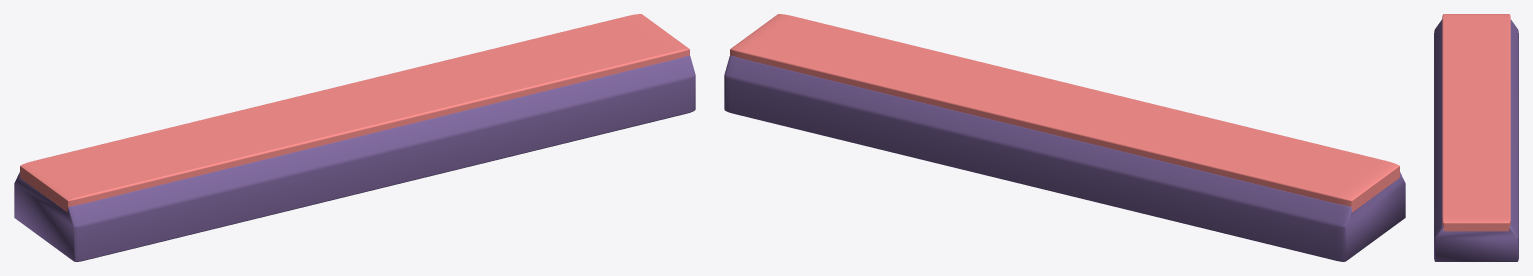
The picture shows the model from 3 angles, left to right: view 1: azimuth 30°, elevation 25°; view 2: azimuth 150°, elevation 25°; view 3: azimuth 270°, elevation 25°; orthographic projection. The views are drawn at different scales.
Parts seen in each view (by area): view 1: Cube.018, Plane.022; view 2: Cube.018, Plane.022; view 3: Plane.022, Cube.018.
Boxes of the visible parts, left/top/right/bottom form: Cube.018: left=14, top=55, right=695, bottom=261; Plane.022: left=20, top=14, right=689, bottom=212; Cube.018: left=724, top=55, right=1405, bottom=261; Plane.022: left=730, top=14, right=1399, bottom=212; Plane.022: left=1442, top=14, right=1510, bottom=231; Cube.018: left=1434, top=19, right=1518, bottom=261.
Size of the model in its own units: 776 by 70.78 by 133.
